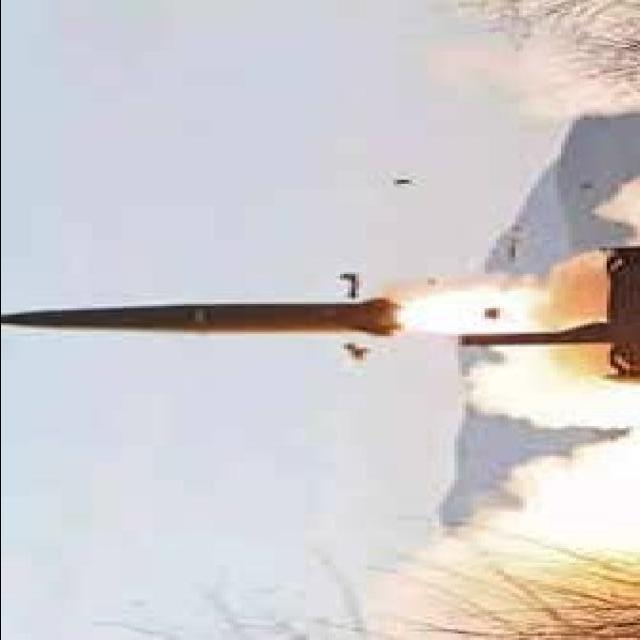Missile: (2, 297, 404, 342)
